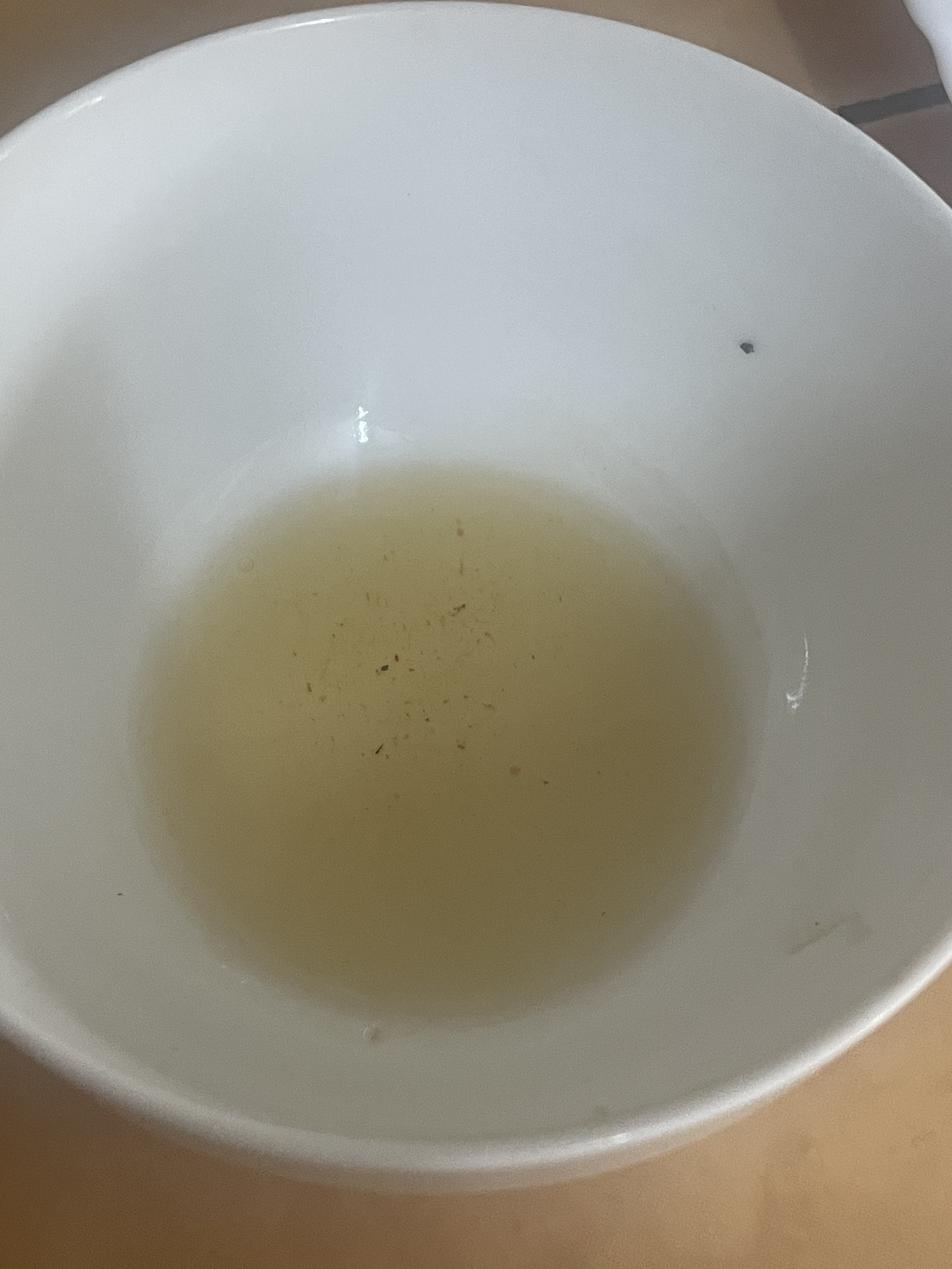reusable: (151, 469, 737, 1020)
